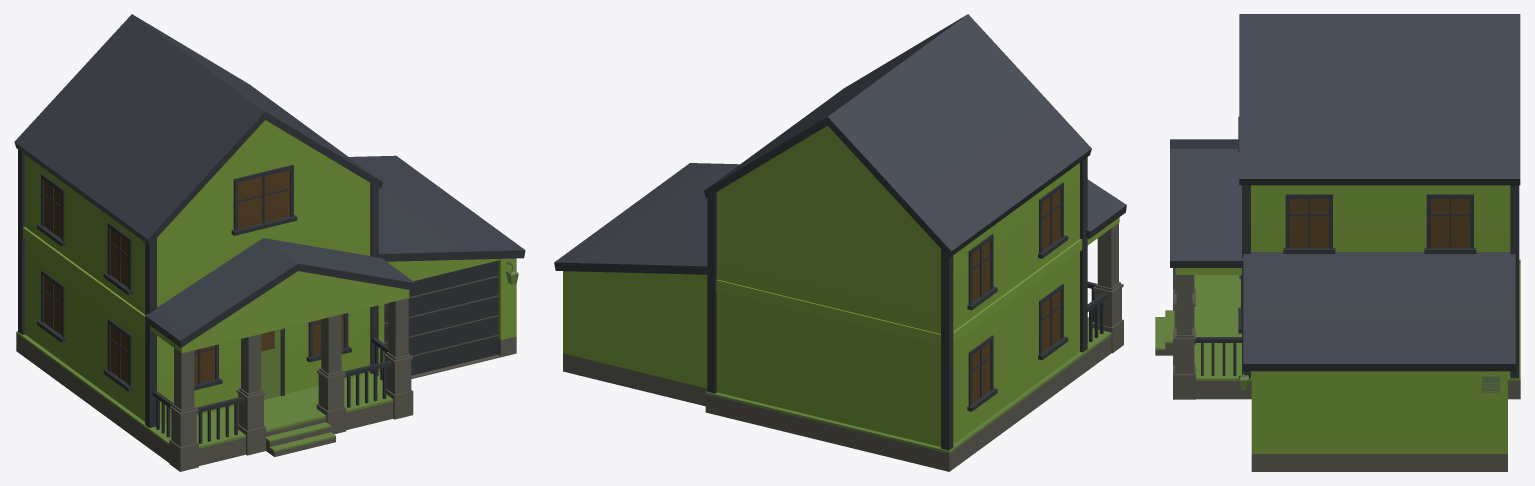
The model's file is SuburbHouse_05.fbx.
3 renders of one model, left to right at view 1: azimuth 30°, elevation 25°; view 2: azimuth 150°, elevation 25°; view 3: azimuth 270°, elevation 25°, orthographic. The views are drawn at different scales.
Visible parts, largest first — view 1: SuburbHouse_05; view 2: SuburbHouse_05; view 3: SuburbHouse_05.
Part boxes in pixels (x1,y1,x2,y2): SuburbHouse_05: (14, 14, 525, 471); SuburbHouse_05: (554, 14, 1126, 471); SuburbHouse_05: (1155, 14, 1520, 471).
Bounding box in the file's own units: 10.2 × 7.92 × 8.06.
